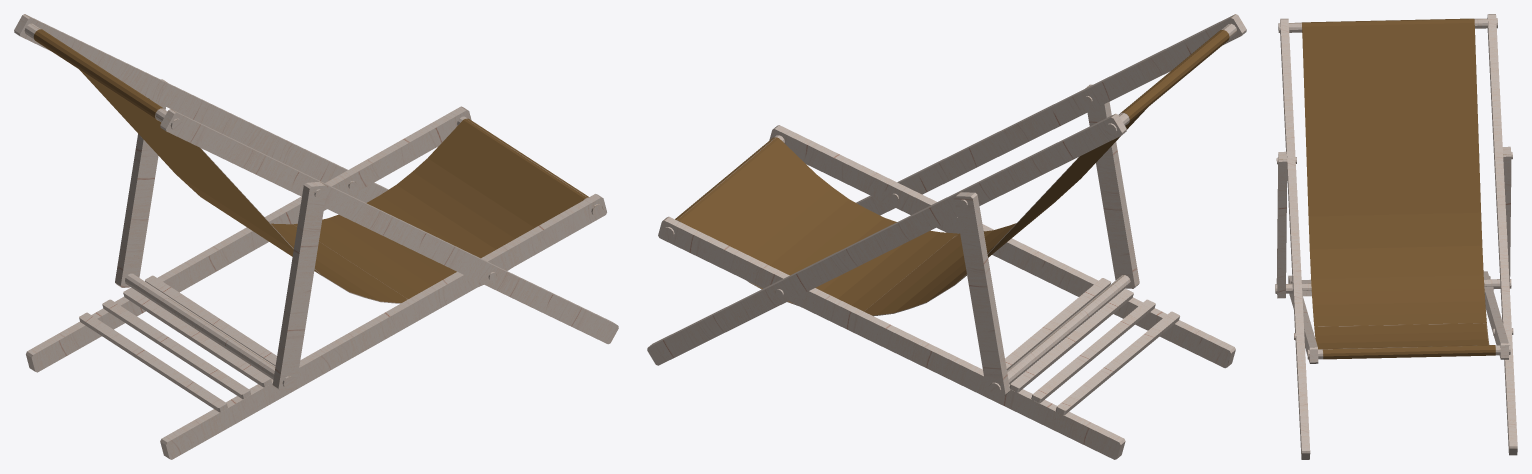
The model's file is beachchair.fbx.
The picture shows the model from 3 angles, left to right: view 1: azimuth 30°, elevation 25°; view 2: azimuth 150°, elevation 25°; view 3: azimuth 270°, elevation 25°; orthographic projection. The views are drawn at different scales.
Visible parts, largest first — view 1: Bakegroup_BAKED; view 2: Bakegroup_BAKED; view 3: Bakegroup_BAKED.
Part boxes in pixels (<box>): Bakegroup_BAKED: <box>14,14,618,459</box>; Bakegroup_BAKED: <box>647,14,1246,459</box>; Bakegroup_BAKED: <box>1275,14,1517,459</box>.
Bounding box in the file's own units: 517 × 362 × 292.
